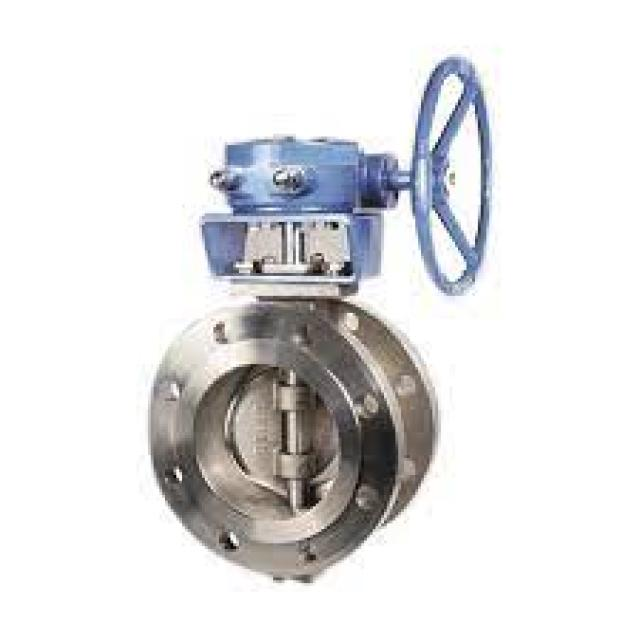Wheel Handle Valve Threaded: (395, 39, 509, 306)
